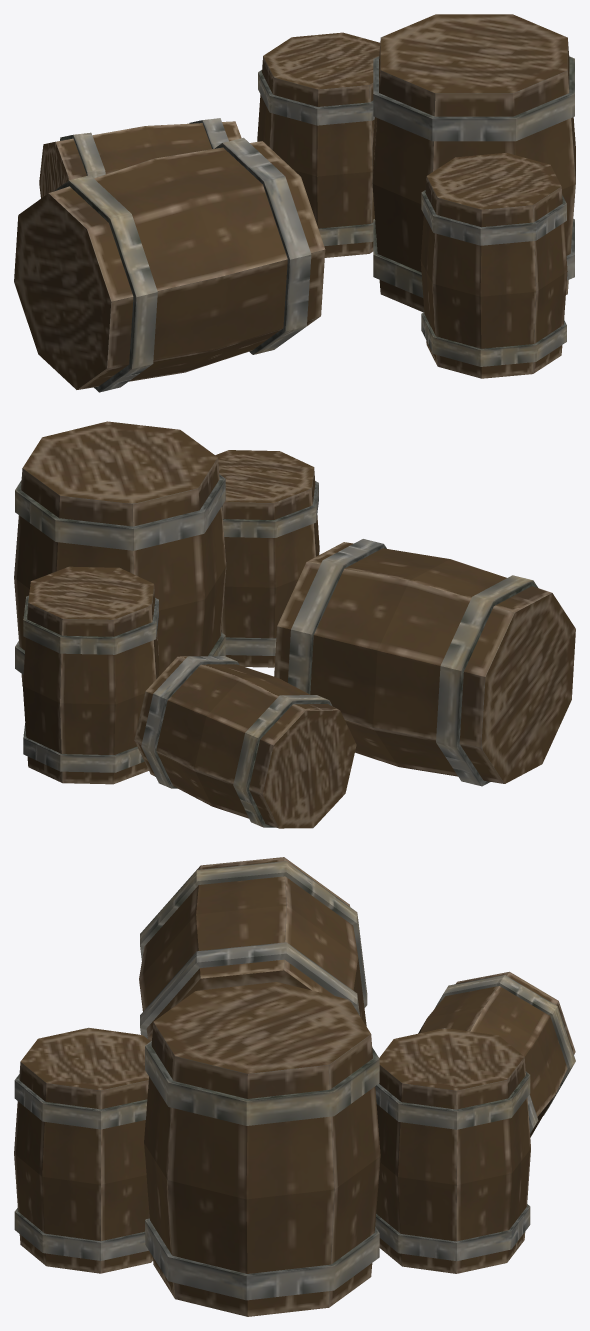
Rendered from barrels_003.obj.
The picture shows the model from 3 angles, top to bottom: view 1: azimuth 30°, elevation 25°; view 2: azimuth 150°, elevation 25°; view 3: azimuth 270°, elevation 25°; orthographic projection. The views are drawn at different scales.
Parts seen in each view (by area): view 1: barrels_003; view 2: barrels_003; view 3: barrels_003.
Part boxes in pixels (<box>): barrels_003: <box>14,14,575,392</box>; barrels_003: <box>14,421,575,828</box>; barrels_003: <box>14,857,575,1316</box>.
Size of the model in its own units: 4.77 by 2.05 by 4.19.
